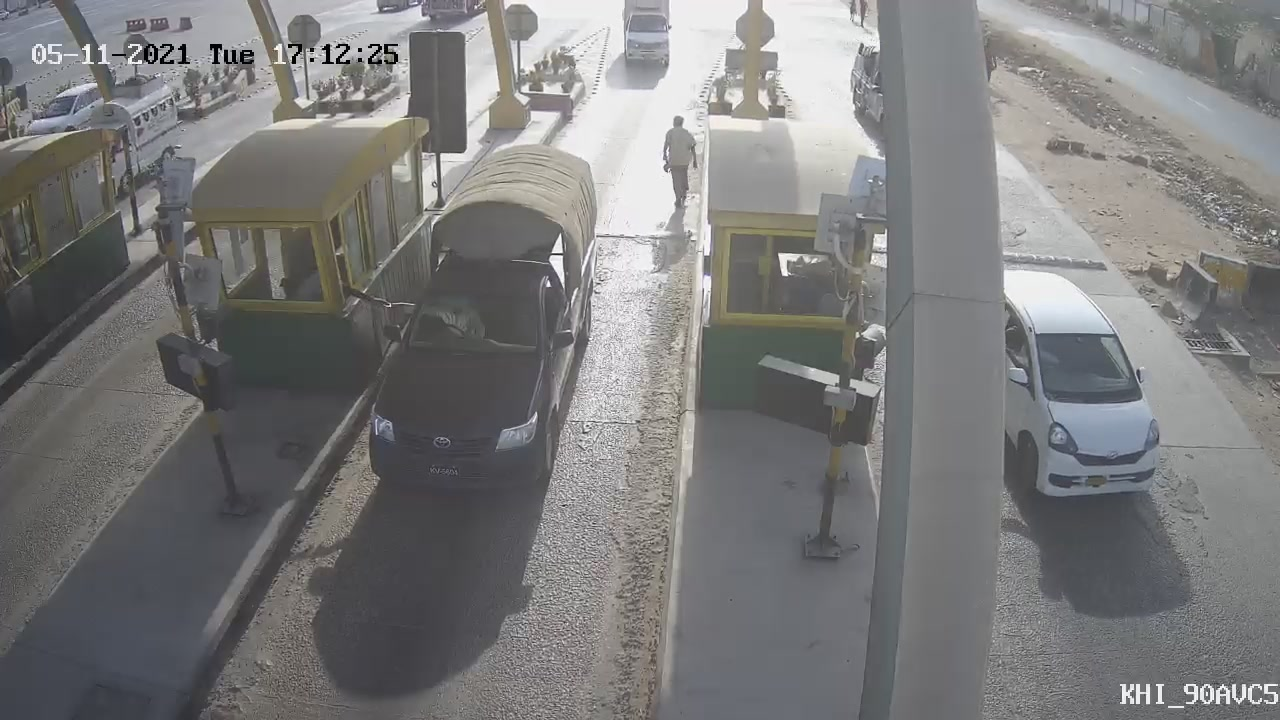F1: (337, 126, 629, 526)
